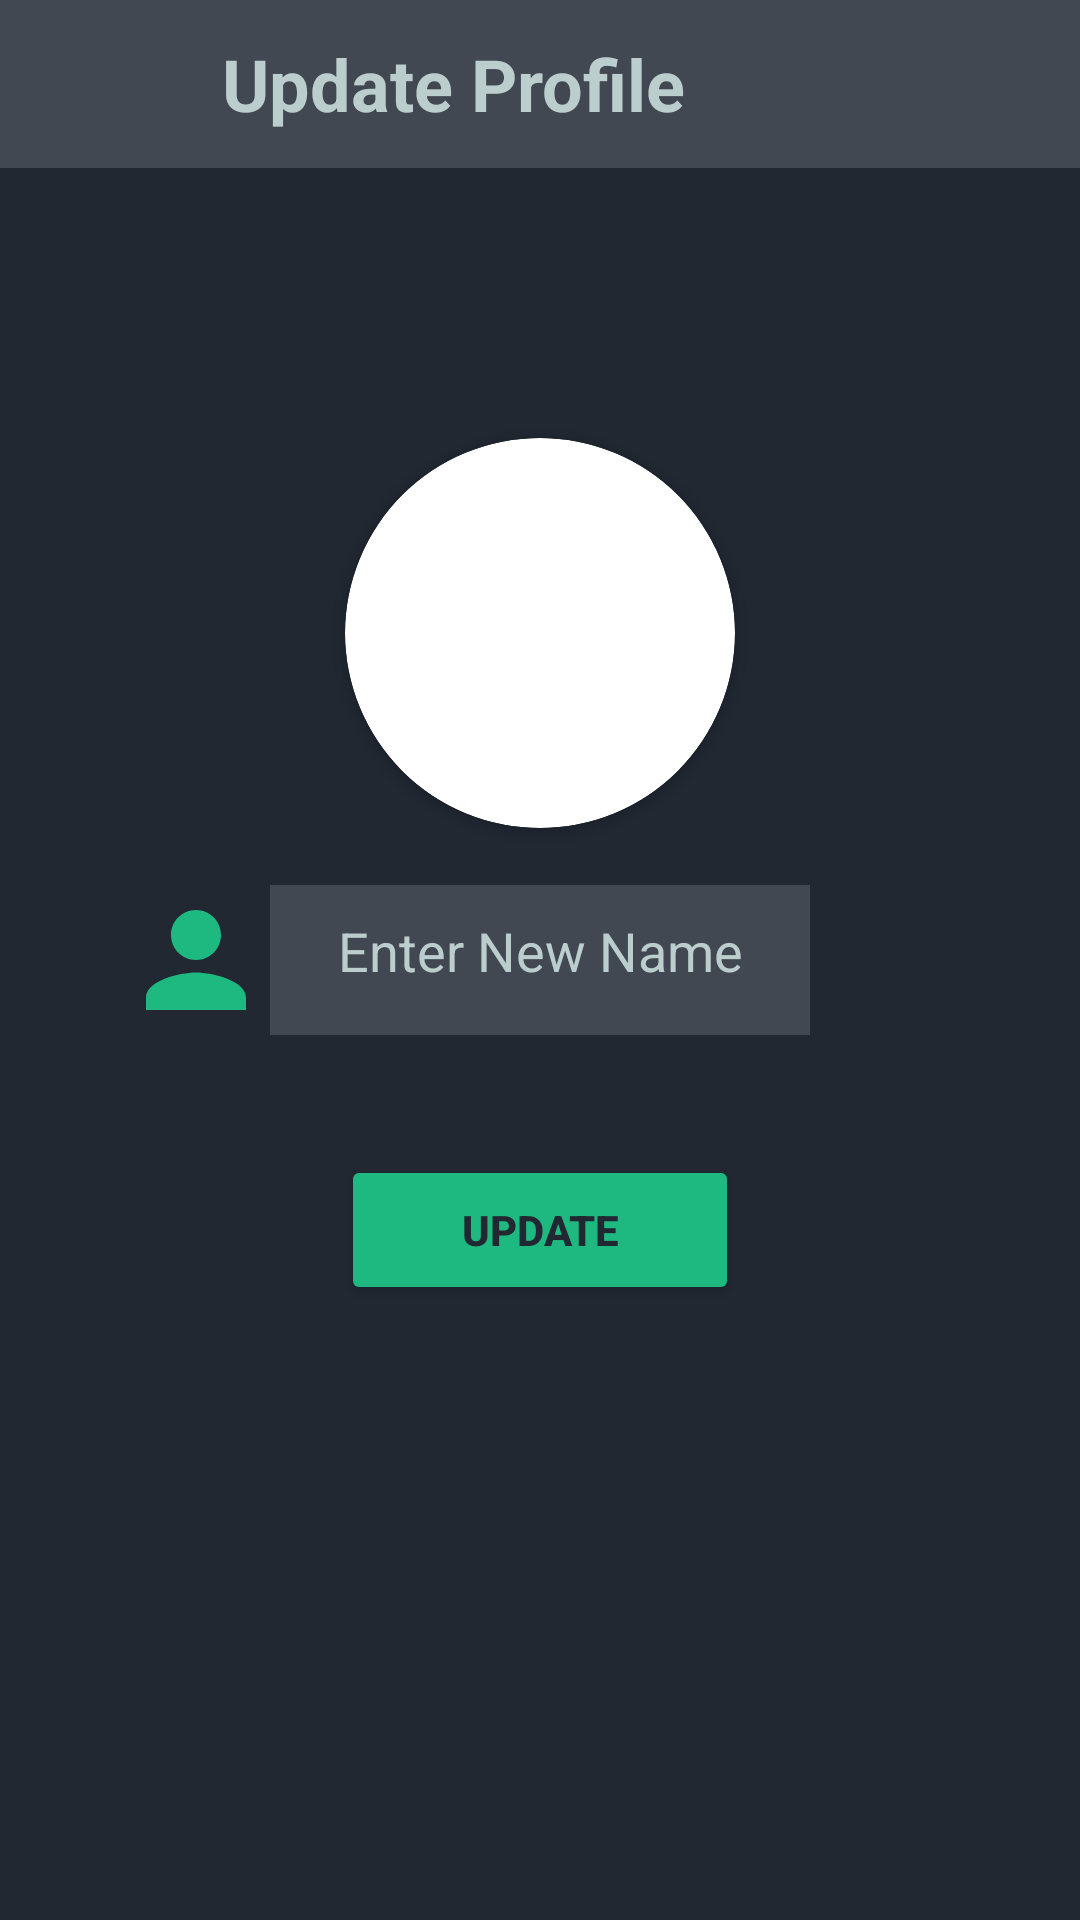

Screen size 1080w x 1920h. Icon name, then its center in pixels as point (x, y):
person: point (196, 960)
